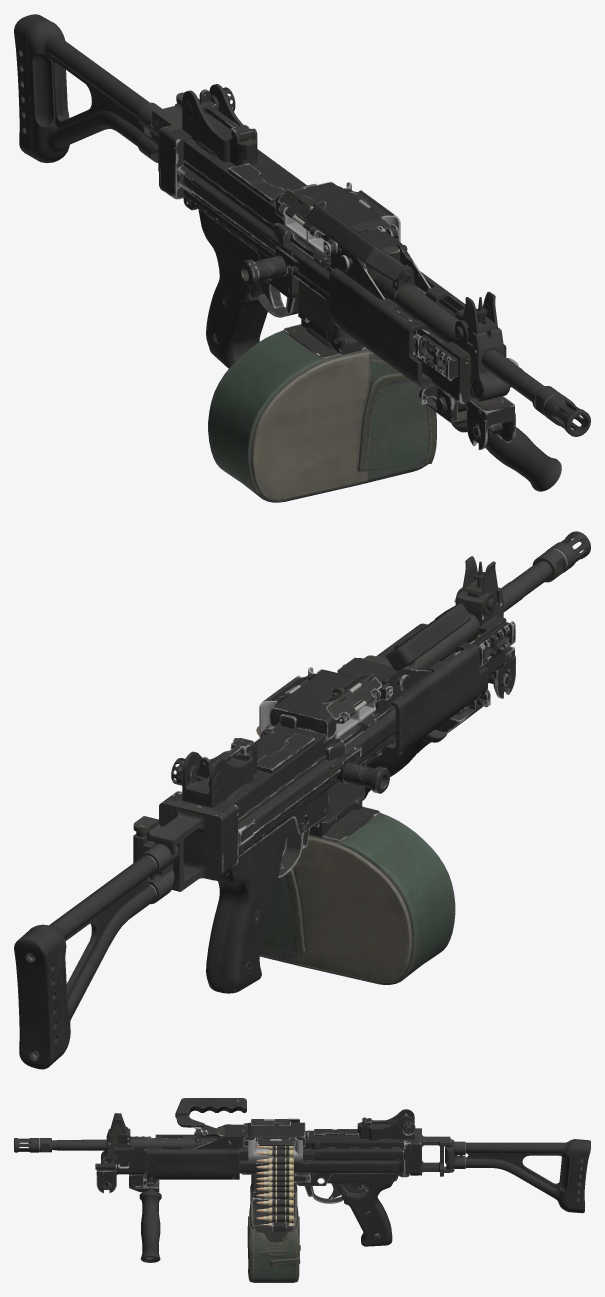
File: negev.glb
The picture shows the model from 3 angles, top to bottom: view 1: azimuth 30°, elevation 25°; view 2: azimuth 150°, elevation 25°; view 3: azimuth 270°, elevation 25°; orthographic projection. The views are drawn at different scales.
Parts seen in each view (by area): view 1: Negev_CS2_weapon_mach_negev_0; view 2: Negev_CS2_weapon_mach_negev_0; view 3: Negev_CS2_weapon_mach_negev_0.
Boxes of the visible parts, bbox=[...] form: Negev_CS2_weapon_mach_negev_0: bbox=[14, 14, 590, 502]; Negev_CS2_weapon_mach_negev_0: bbox=[14, 531, 590, 1069]; Negev_CS2_weapon_mach_negev_0: bbox=[14, 1098, 590, 1282].
Bounding box in the file's own units: 0.2248 × 0.3014 × 1.01.
1 material, 1 textured.
